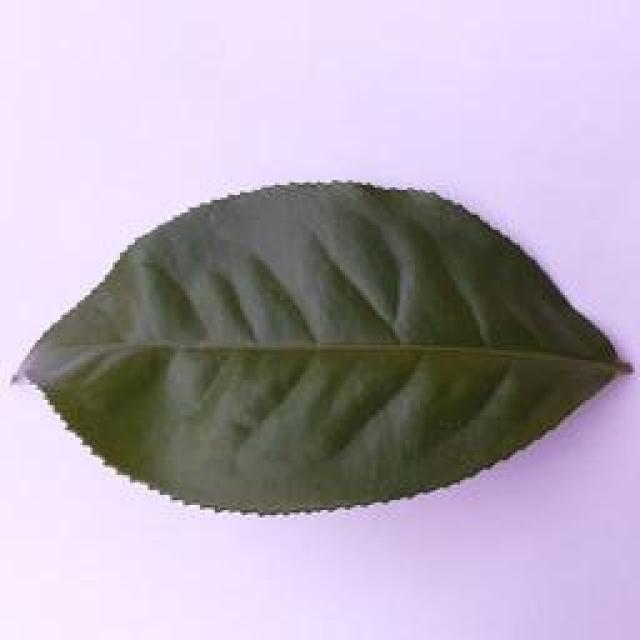Healthy: (22, 166, 640, 522)
